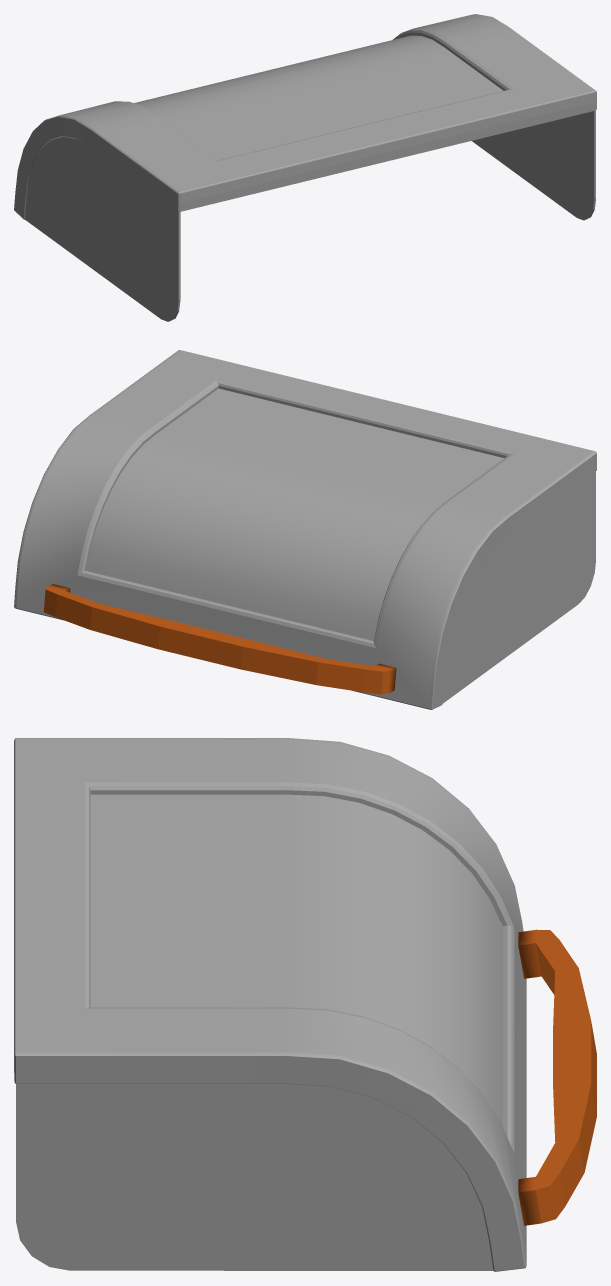
The model's file is Toasty Grill Lid 1.fbx.
3 views of the same model, one above another, from view 1: azimuth 30°, elevation 25°; view 2: azimuth 150°, elevation 25°; view 3: azimuth 270°, elevation 25° (orthographic). The views are drawn at different scales.
Parts seen in each view (by area): view 1: lid; view 2: lid, handle; view 3: lid, handle.
Boxes of the visible parts, x1,y1,x2,y2 form: lid: (14,14,596,321); lid: (14,350,596,709); handle: (43,584,396,694); lid: (14,738,526,1271); handle: (518,929,596,1225).
Bounding box in the file's own units: 437 × 140 × 339.
